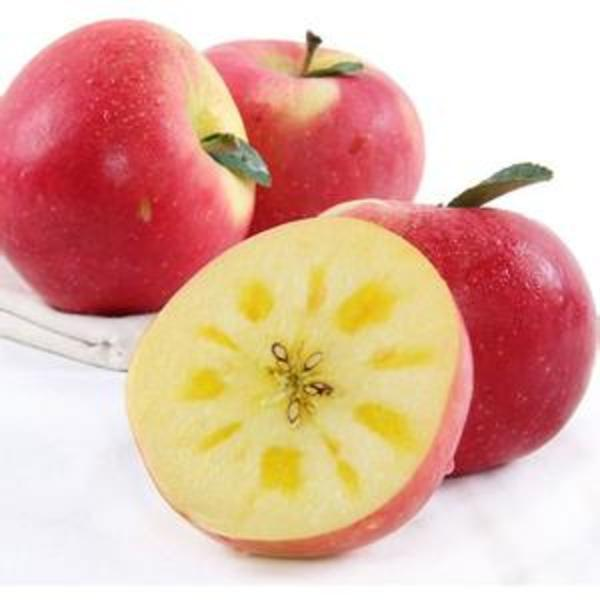apple: (297, 201, 595, 474), (1, 18, 256, 313), (222, 36, 430, 237)
